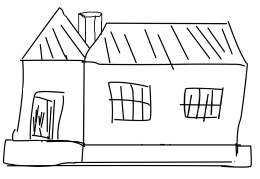big_house: (1, 0, 260, 179)
chimney: (71, 5, 106, 44)
closed_window: (105, 77, 155, 124), (179, 80, 227, 123)
door: (26, 87, 70, 145)
roof: (78, 20, 252, 71), (16, 4, 94, 65)
wall: (78, 57, 250, 152)
